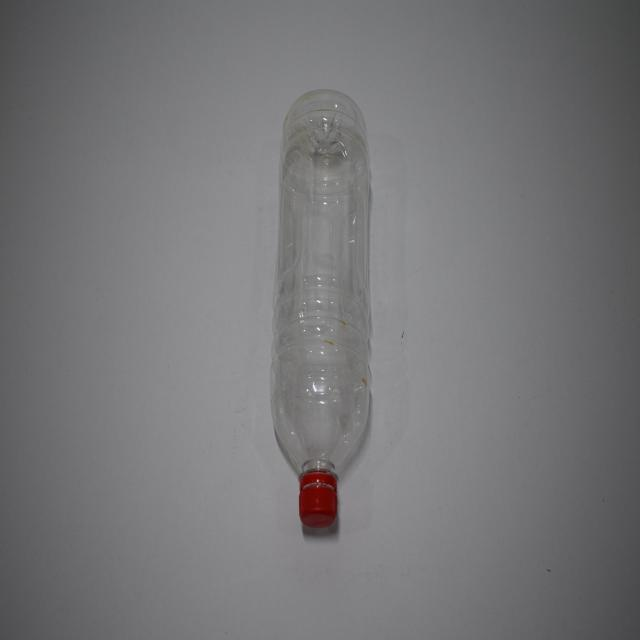bottle: (256, 80, 384, 585)
